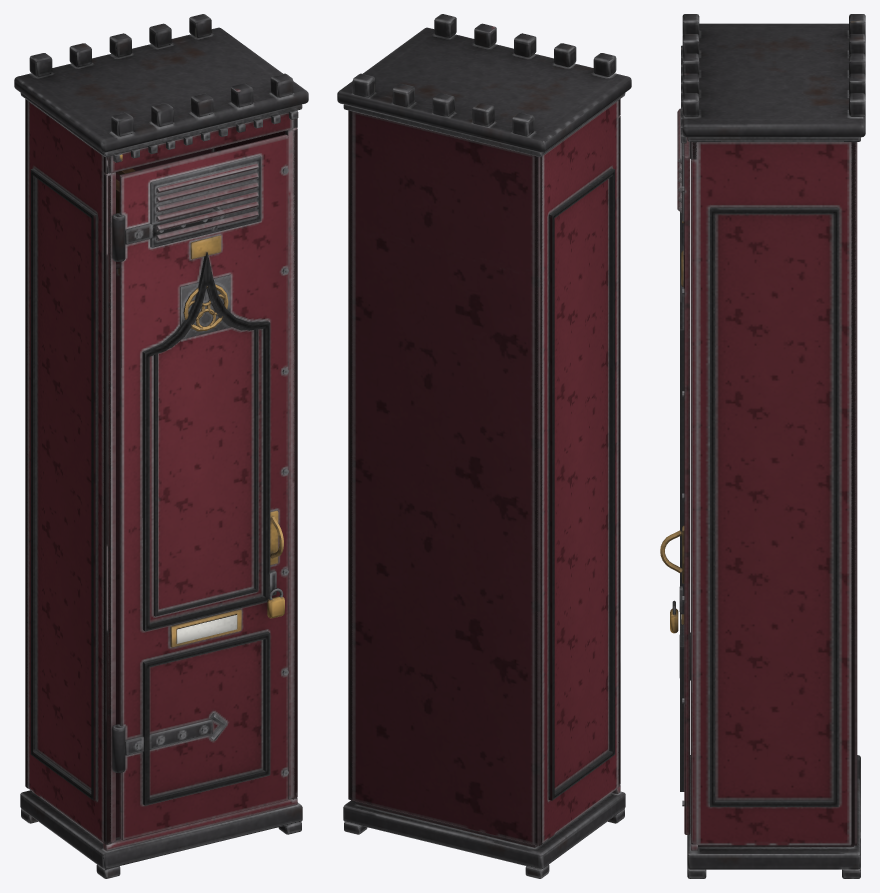
The model's file is Locker.fbx.
The picture shows the model from 3 angles, left to right: view 1: azimuth 30°, elevation 25°; view 2: azimuth 150°, elevation 25°; view 3: azimuth 270°, elevation 25°; orthographic projection. The views are drawn at different scales.
Visible parts, largest first — view 1: Locker_Door0, Locker_Body; view 2: Locker_Body; view 3: Locker_Body, Locker_Door0.
Part boxes in pixels (x1=…): Locker_Door0: x1=112, y1=134, x2=288, y2=840; Locker_Body: x1=14, y1=14, x2=308, y2=878; Locker_Body: x1=337, y1=14, x2=631, y2=878; Locker_Body: x1=681, y1=14, x2=865, y2=878; Locker_Door0: x1=660, y1=108, x2=690, y2=834.
Size of the model in its own units: 206 by 718 by 173.
